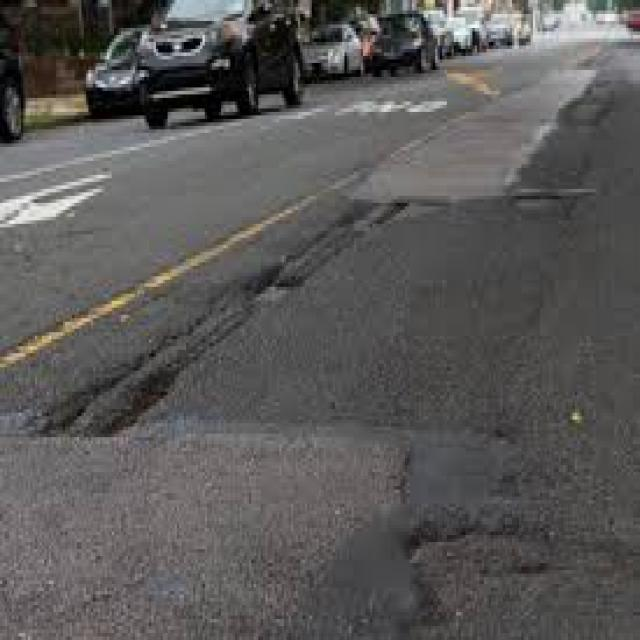Pothole: (72, 189, 598, 434), (407, 521, 549, 626)
